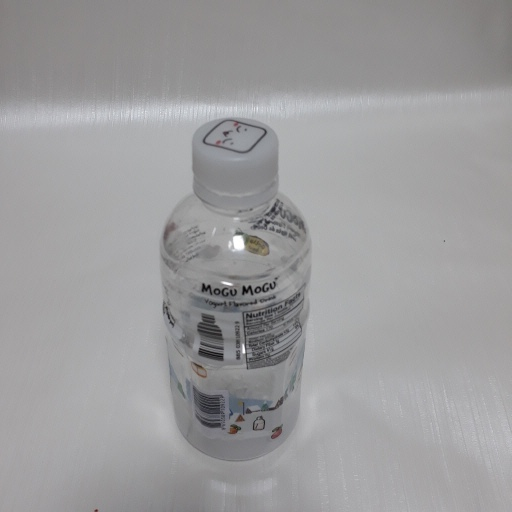Plastic_0: (158, 119, 313, 463)
